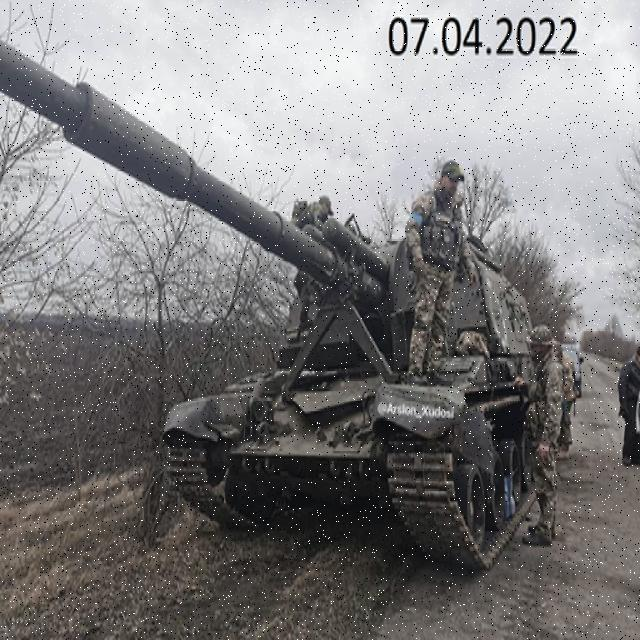ART: (0, 38, 579, 569)
